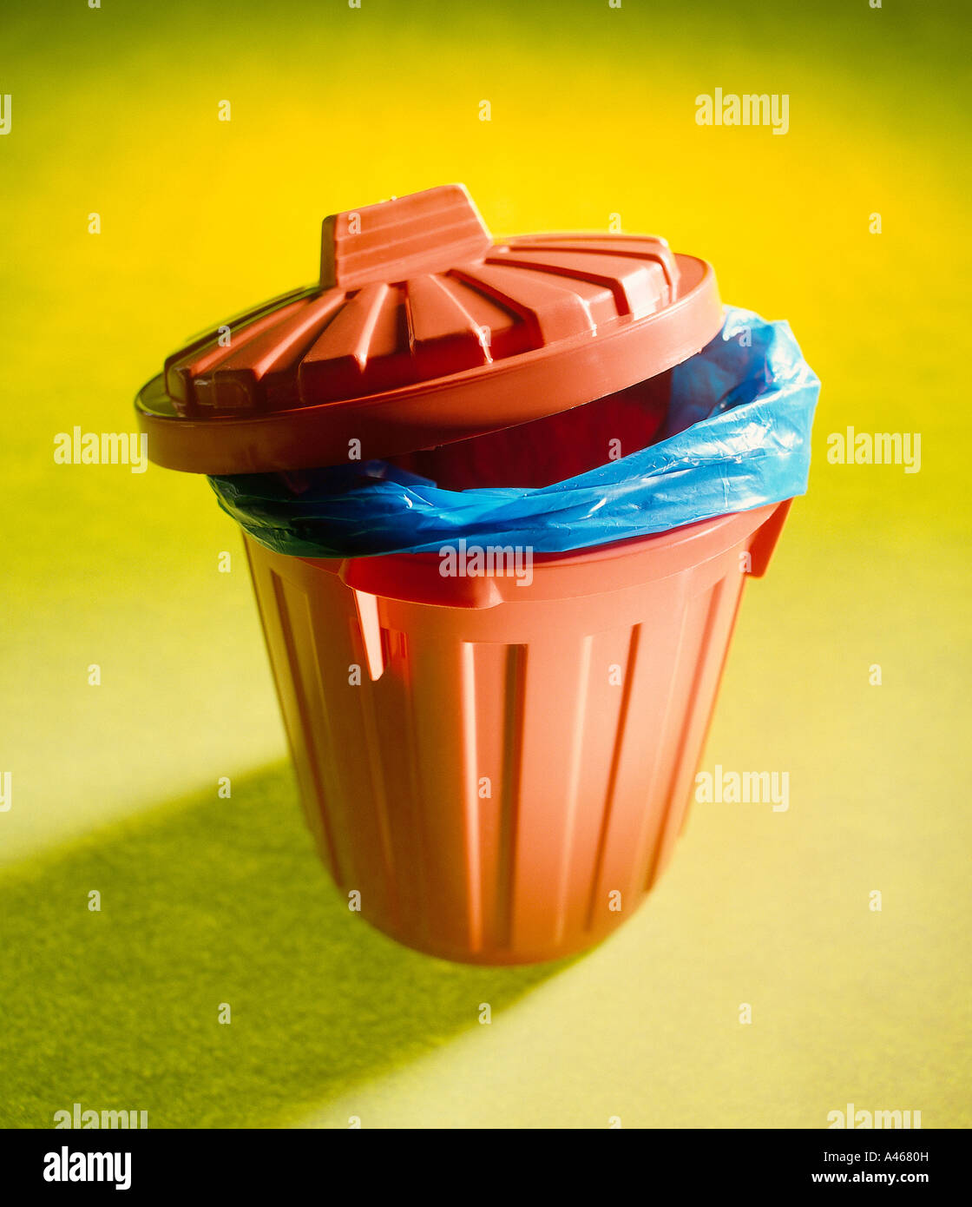partial: (137, 183, 730, 530)
